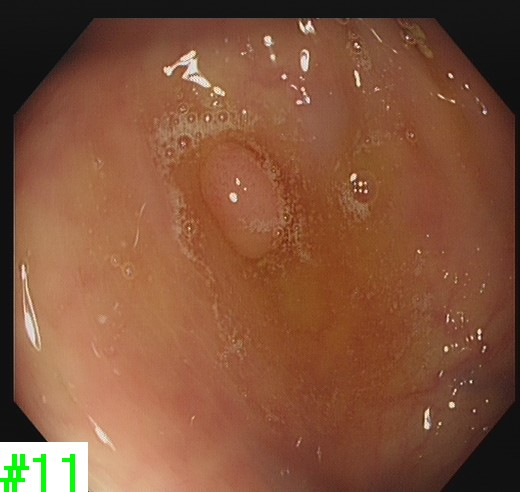adenoma: (196, 138, 290, 262)
